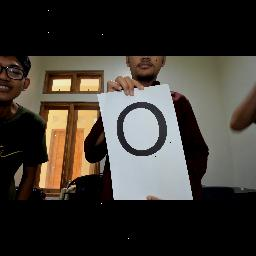o: (106, 93, 178, 167)
